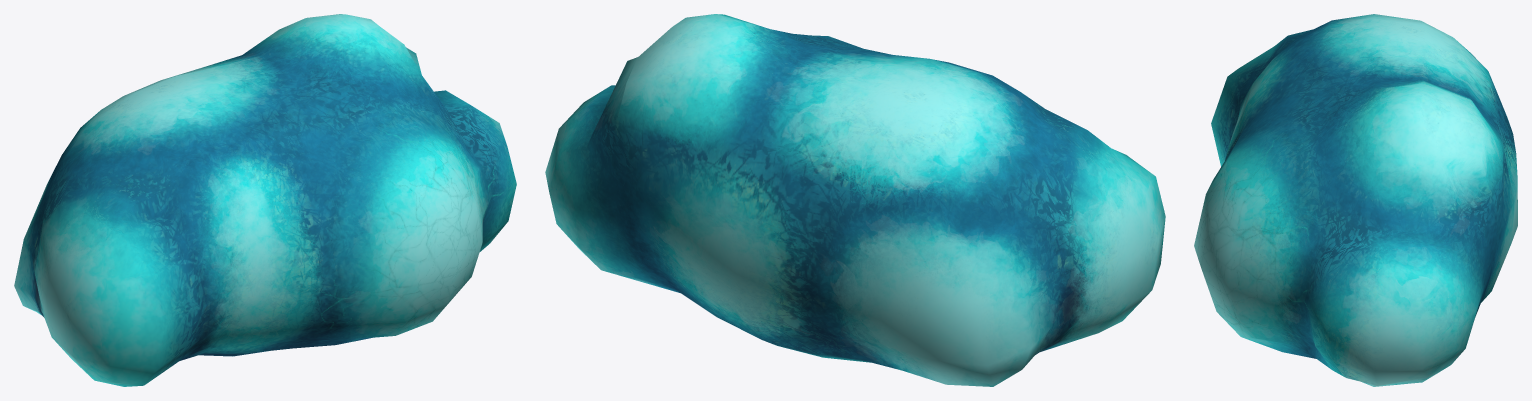
Rendered from Arbusto suavecito.fbx.
3 views of the same model, side by side, from view 1: azimuth 30°, elevation 25°; view 2: azimuth 150°, elevation 25°; view 3: azimuth 270°, elevation 25° (orthographic). The views are drawn at different scales.
Visible parts, largest first — view 1: Mball.001; view 2: Mball.001; view 3: Mball.001.
Part boxes in pixels (left/top/right/bottom): Mball.001: left=14, top=14, right=516, bottom=386; Mball.001: left=545, top=14, right=1165, bottom=386; Mball.001: left=1194, top=14, right=1517, bottom=386.
Bounding box in the file's own units: 1120 × 611 × 646.
